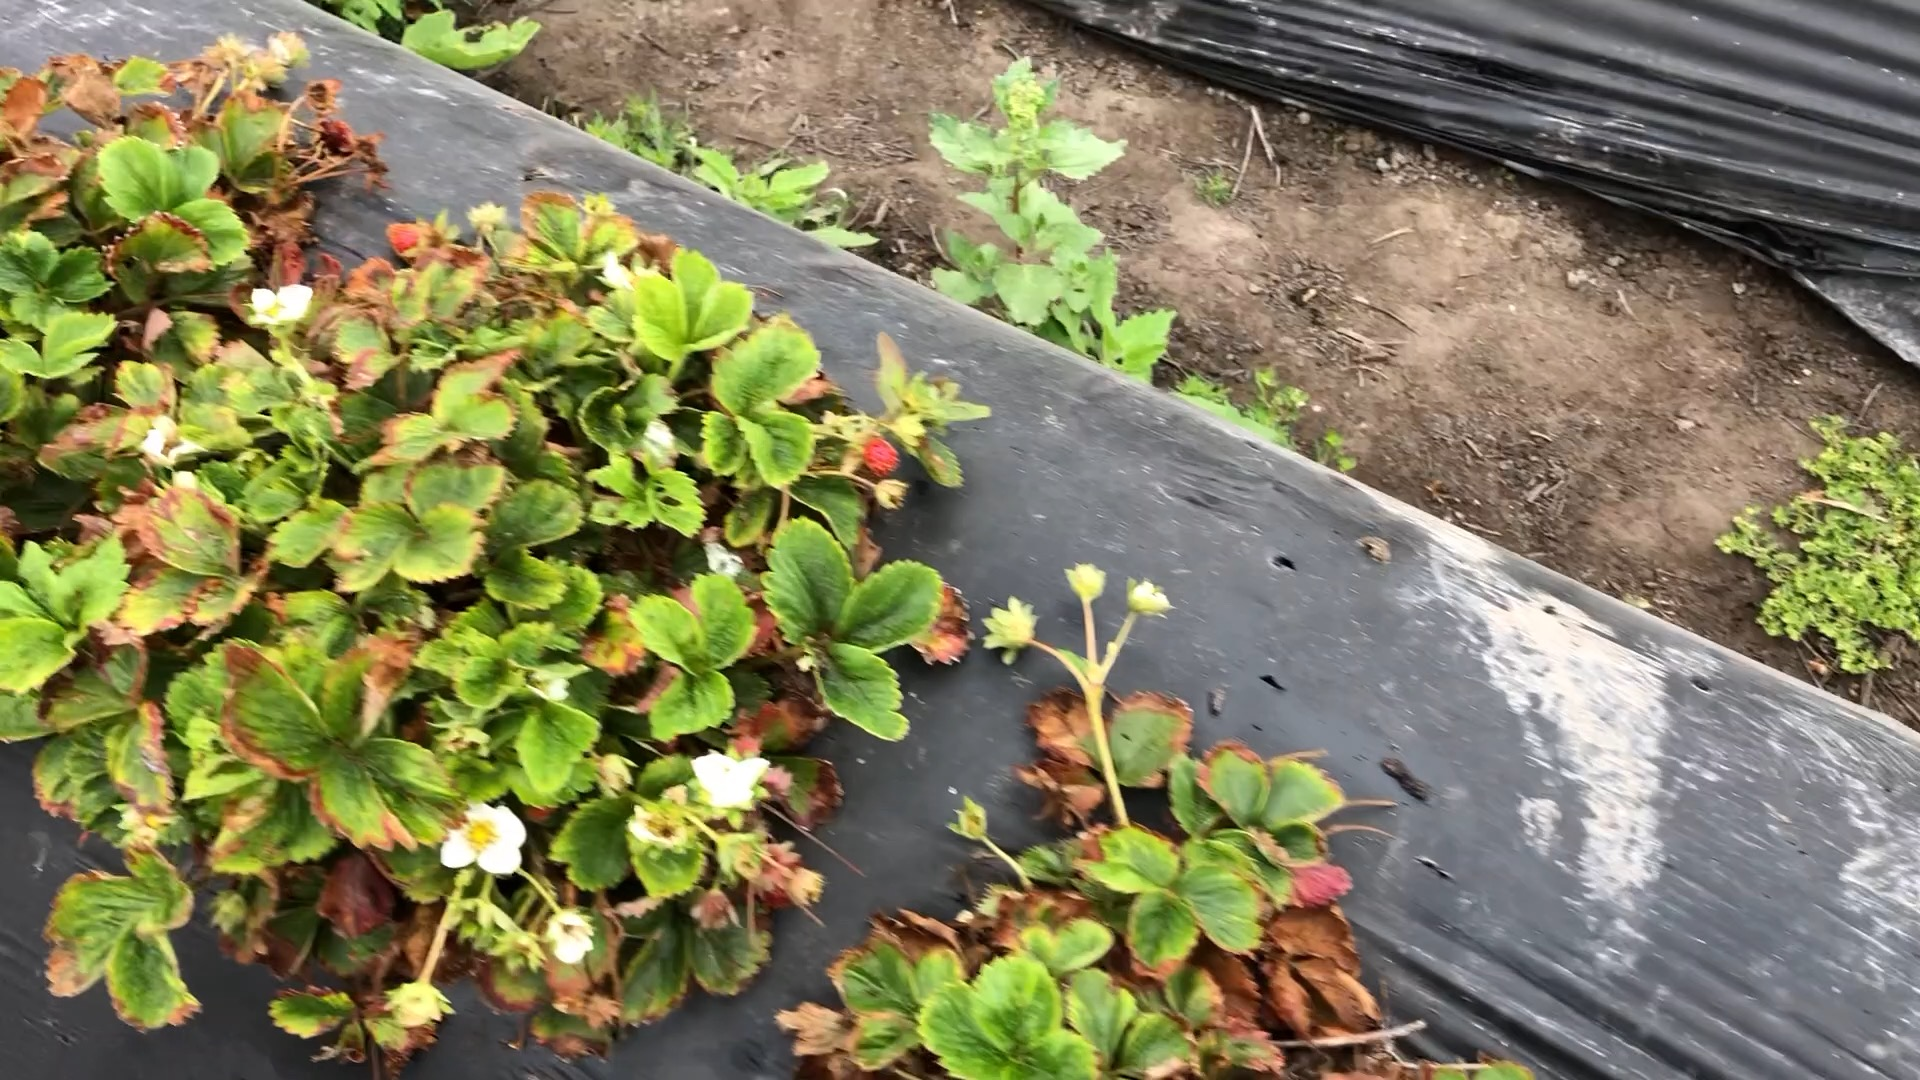ripe_strawberry: (382, 218, 435, 269), (853, 436, 905, 479)
